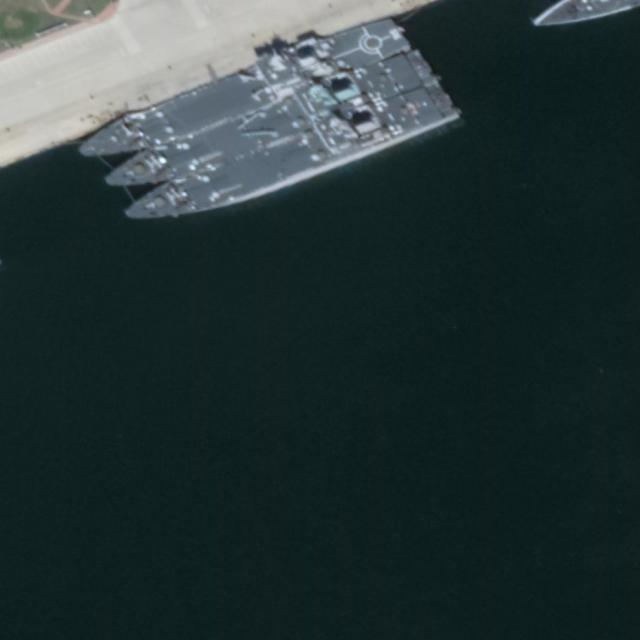Landing: (120, 74, 456, 238), (69, 10, 407, 172), (100, 44, 432, 197)
